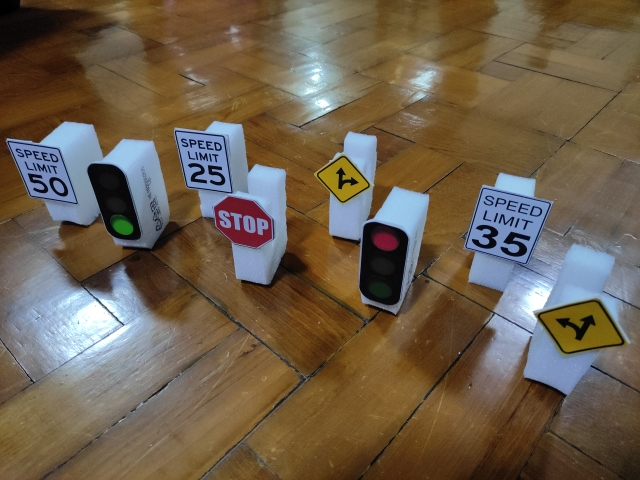Green Traffic Light: (84, 162, 142, 242)
Red Traffic Light: (357, 220, 410, 305)
Speed Limit 25: (174, 126, 234, 195)
Speed Limit 35: (465, 187, 550, 265)
Speed Limit 50: (5, 137, 79, 205)
Stop Sign: (212, 196, 277, 249)
Straight Or Left Sign: (535, 298, 627, 356)
Straight Or Right Sign: (315, 154, 373, 203)
